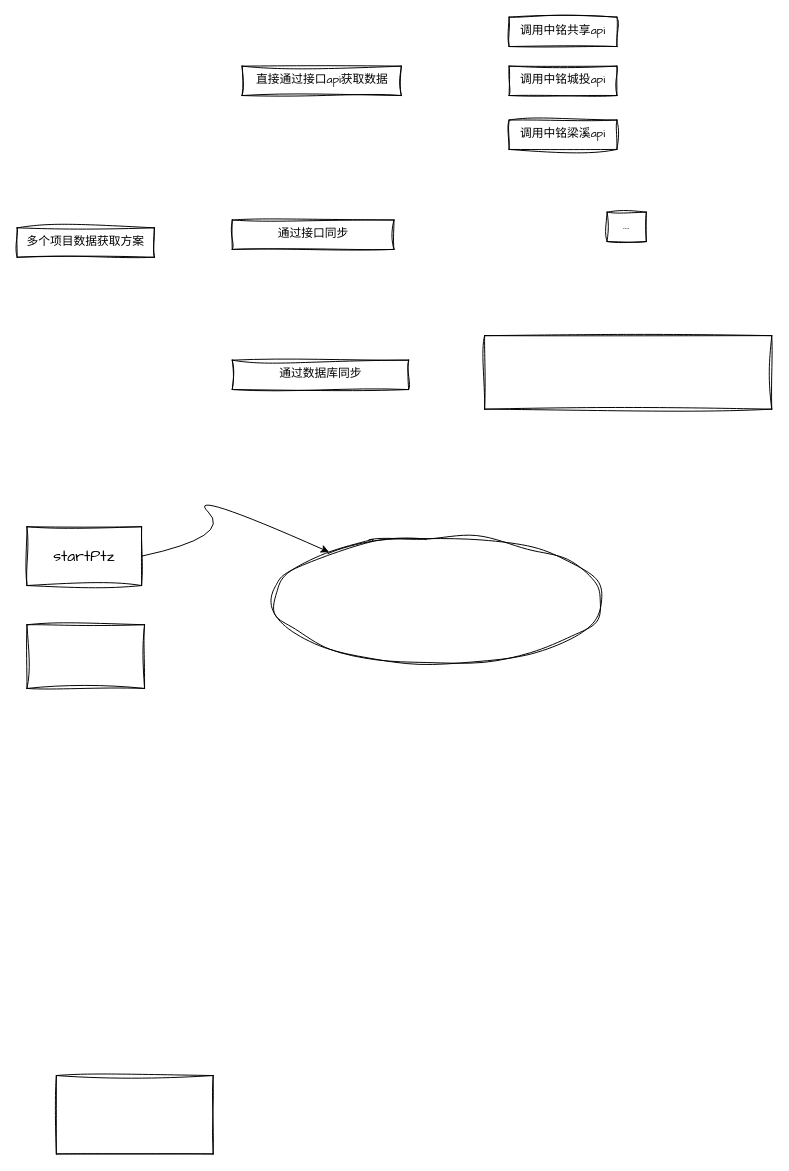
Image size: 789x1171. Some labels were removed from this diagram. The shapes that lost their labels are listed below. From the top down, each one's centre as x and y in pixels, then its label:
the point at 628,372: 中铭提供各个数据库的可读账户，中科大脑自行查询业务表·数据，同步到自己的数据库
the point at 437,600: server
the point at 85,656: stopPtz
the point at 134,1114: 方案
